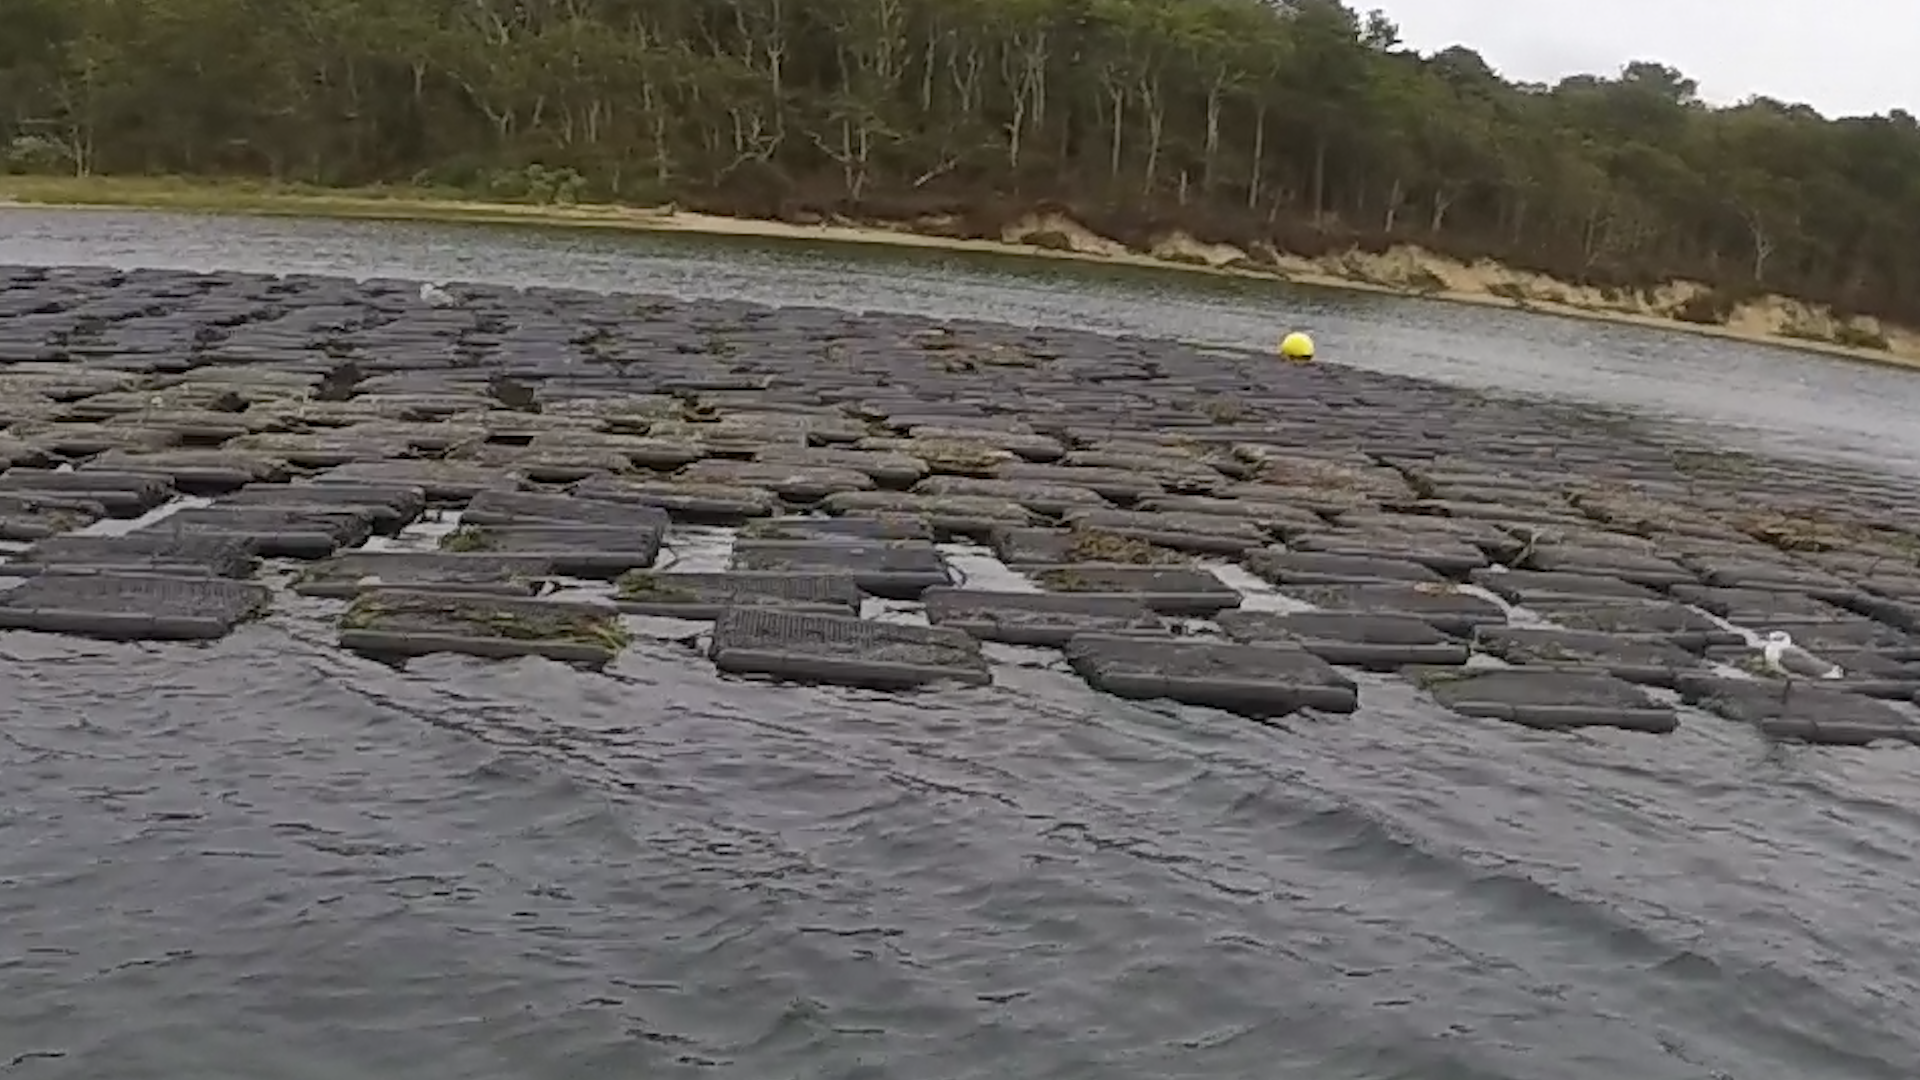bag: (709, 601, 996, 694), (1063, 632, 1364, 709), (339, 585, 625, 666)
